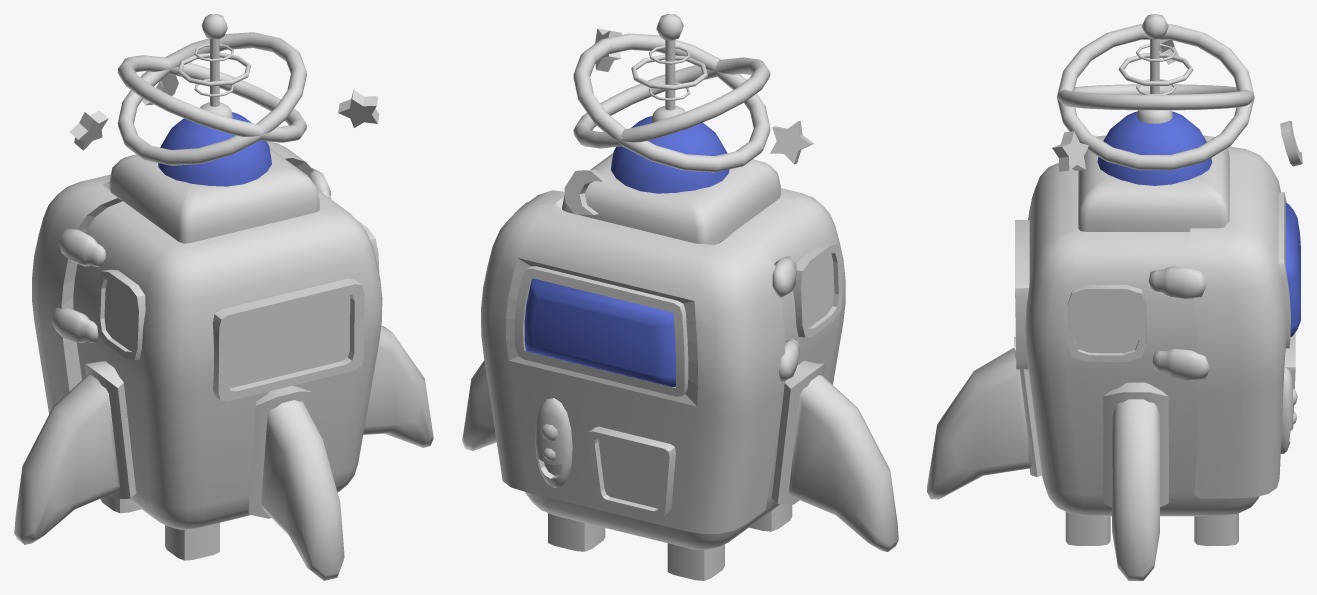
File: Shop_low.fbx
3 views of the same model, side by side, from view 1: azimuth 30°, elevation 25°; view 2: azimuth 150°, elevation 25°; view 3: azimuth 270°, elevation 25° (orthographic). The views are drawn at different scales.
Visible parts, largest first — view 1: boiteprincipale, aileron, Box001, disque_grand, haut, tour_aileron002, demi-cercle, ventilation, loquet, pied, disque_petit, Star002 (+3 smaller); view 2: boiteprincipale, aileron, disque_grand, vitre_verre, haut, porte_basse, vitre, demi-cercle, pied, ventilation, tour_aileron002, boite_bouton (+6 smaller); view 3: boiteprincipale, aileron, disque_grand, haut, ventilation, demi-cercle, tour_aileron002, loquet, pied, Box001, vitre_verre, disque_petit (+6 smaller).
Part boxes in pixels (x1,y1,x2,y2): boiteprincipale: (32, 141, 382, 529); aileron: (14, 325, 433, 580); Box001: (212, 278, 364, 401); disque_grand: (117, 32, 306, 165); haut: (109, 148, 319, 243); tour_aileron002: (85, 361, 312, 518); demi-cercle: (158, 112, 271, 186); ventilation: (96, 219, 379, 360); loquet: (51, 168, 331, 342); pied: (100, 495, 219, 560); disque_petit: (177, 44, 250, 96); Star002: (338, 90, 379, 127); boiteprincipale: (481, 188, 845, 549); aileron: (462, 360, 898, 551); disque_grand: (573, 33, 770, 172); vitre_verre: (524, 278, 675, 386); haut: (562, 153, 780, 244); porte_basse: (587, 426, 675, 518); vitre: (514, 266, 688, 396); demi-cercle: (611, 116, 729, 193); pied: (548, 504, 792, 580); ventilation: (793, 243, 842, 337); tour_aileron002: (771, 361, 824, 504); boite_bouton: (535, 398, 572, 487); boiteprincipale: (1025, 146, 1286, 516); aileron: (927, 348, 1159, 580); disque_grand: (1057, 24, 1254, 170); haut: (1078, 135, 1229, 231); ventilation: (1067, 285, 1146, 361); demi-cercle: (1097, 111, 1212, 185); tour_aileron002: (1014, 337, 1168, 507); loquet: (1148, 266, 1210, 380); pied: (1065, 512, 1238, 545); Box001: (1015, 220, 1029, 369); vitre_verre: (1285, 203, 1300, 336); disque_petit: (1118, 44, 1193, 94).
Bounding box in the file's own units: 167 × 193 × 133.
